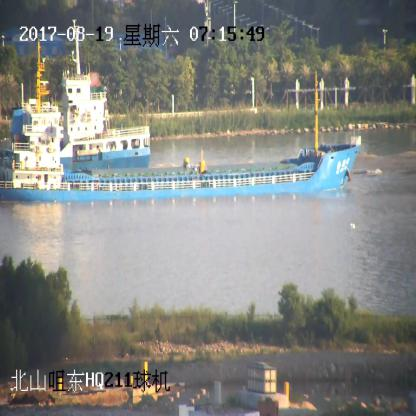Bulk Carrier: (0, 40, 362, 200), (0, 44, 151, 169)
